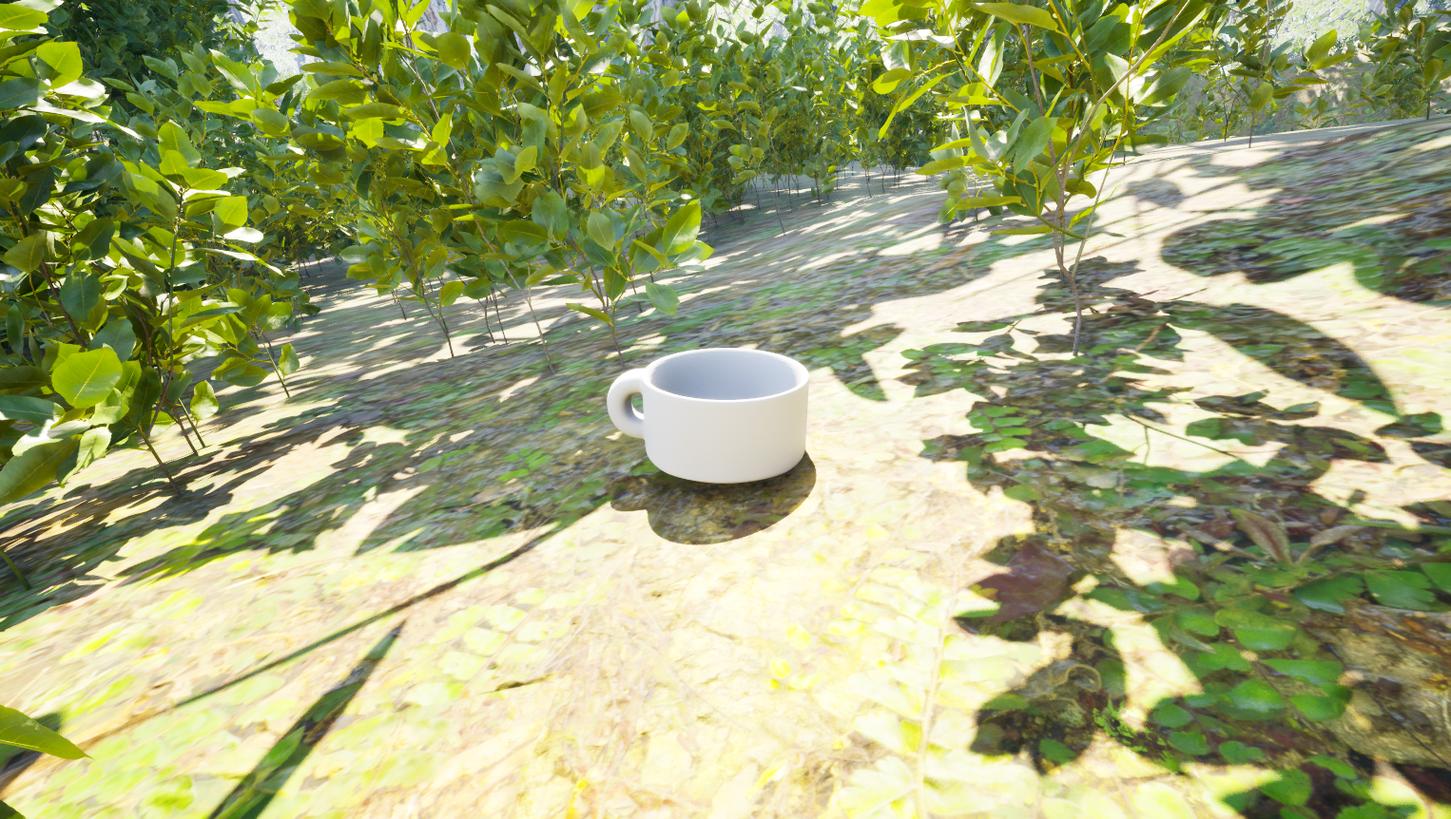Teacup: (592, 335, 843, 505)
